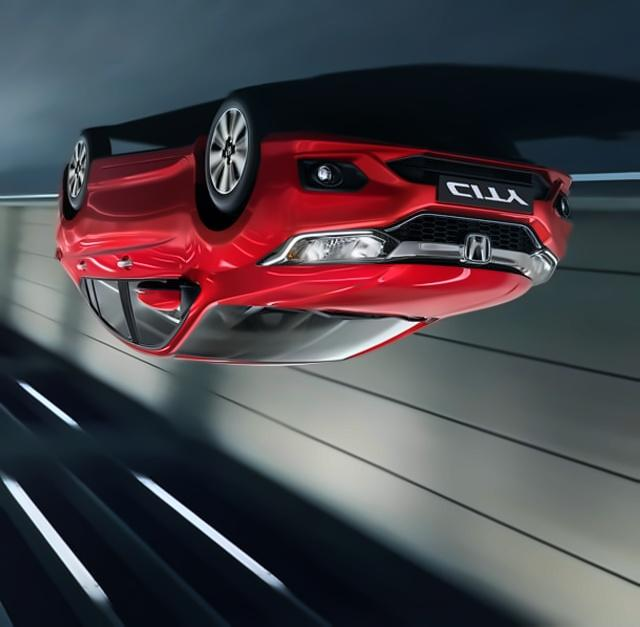Car hood: (213, 260, 537, 329)
Fender - -F-L-: (185, 169, 272, 299)
Front bumper: (257, 134, 580, 256)
Headlight - -L-: (257, 229, 397, 265)
Headlight - -R-: (517, 247, 557, 284)
Passenger-s door - -F-L-: (111, 137, 203, 358)
Passenger-s door - -R-L-: (76, 147, 139, 356)
Side bumper - -L-: (86, 135, 205, 202)
